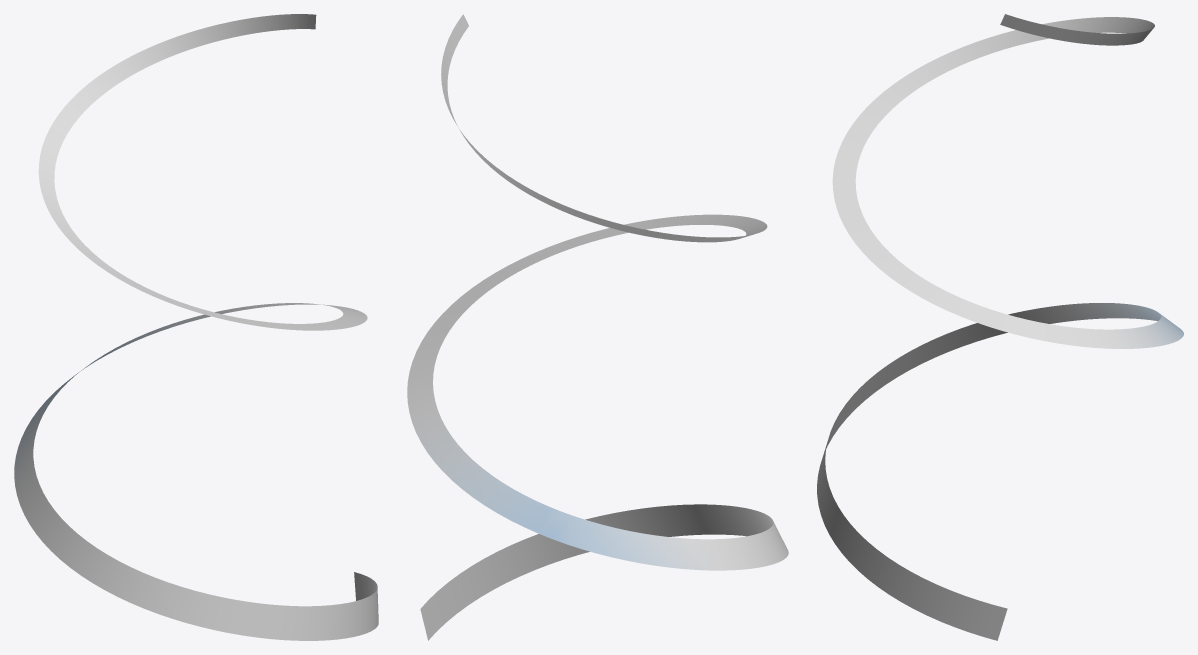
File: EM_helix.FBX
3 views of the same model, side by side, from view 1: azimuth 30°, elevation 25°; view 2: azimuth 150°, elevation 25°; view 3: azimuth 270°, elevation 25° (orthographic). The views are drawn at different scales.
Parts seen in each view (by area): view 1: Loft001; view 2: Loft001; view 3: Loft001.
Boxes of the visible parts, x1,y1,x2,y2 form: Loft001: (14, 14, 378, 640); Loft001: (407, 14, 788, 640); Loft001: (817, 14, 1183, 640).
Bounding box in the file's own units: 37785 × 68066 × 37182.
